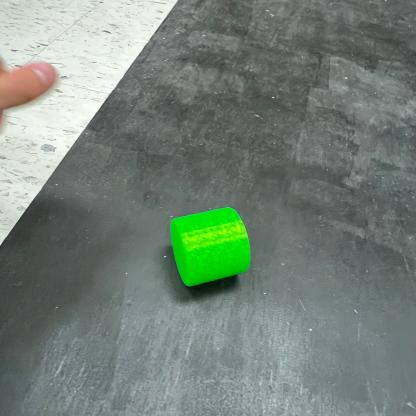green cylinder: (169, 205, 254, 290)
